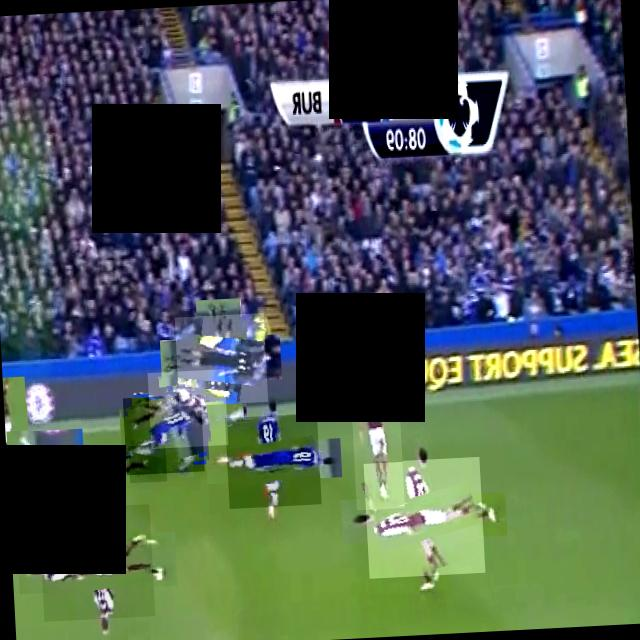ball: (128, 444, 168, 483)
referee: (174, 313, 268, 407)
soccer-player: (364, 458, 486, 580), (38, 504, 156, 622), (225, 413, 322, 509), (349, 357, 405, 510), (123, 394, 205, 476), (148, 369, 228, 449), (4, 401, 59, 483)
